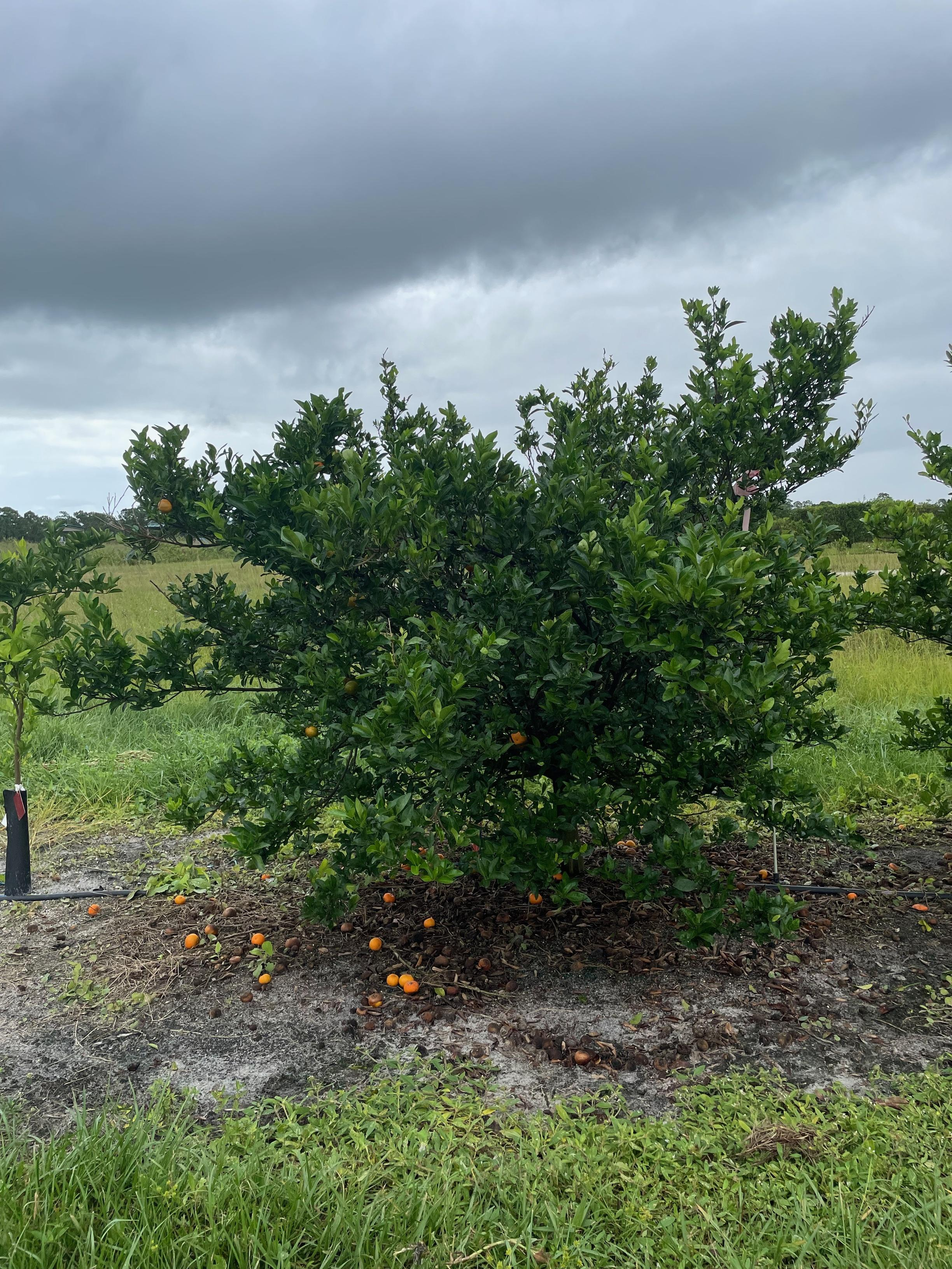fruit_on_ground: (507, 727, 530, 748), (156, 496, 174, 515), (342, 678, 361, 696), (303, 724, 320, 739)
fruit_on_tree: (572, 1048, 592, 1067), (402, 978, 421, 997), (397, 971, 415, 988), (526, 889, 543, 905), (367, 991, 383, 1007), (184, 932, 200, 948), (476, 956, 493, 971), (385, 972, 400, 988), (367, 935, 383, 950), (284, 935, 301, 949), (250, 931, 266, 945), (86, 902, 102, 916), (382, 890, 397, 904), (203, 922, 219, 935), (422, 1008, 436, 1022), (444, 983, 459, 996), (434, 954, 449, 967), (221, 905, 236, 918), (26, 921, 40, 934), (339, 920, 353, 933), (423, 915, 437, 928), (353, 1004, 368, 1016), (257, 972, 272, 984), (551, 870, 565, 882), (173, 893, 187, 905), (758, 867, 770, 879), (887, 860, 900, 871), (399, 860, 411, 871), (845, 890, 858, 900), (624, 846, 637, 856), (624, 839, 637, 848), (260, 871, 271, 880), (616, 838, 627, 847)
